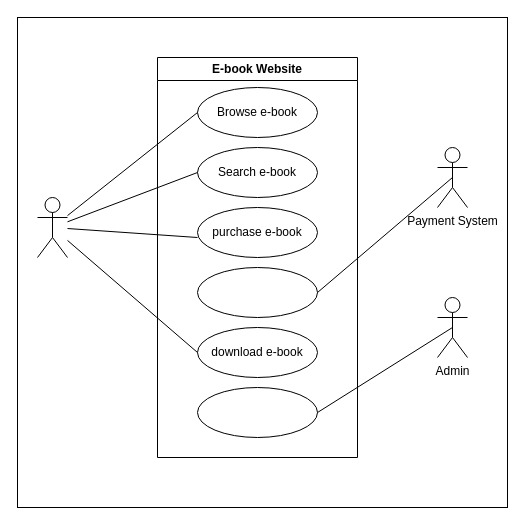
Some shapes in this 525 by 525 pixel diagram are drawn without their labels. Here are the shapes that lost their labels. From the top down, the centre of each, then its label:
At point (52, 227): "Customer".
At point (257, 292): "process payment".
At point (257, 412): "Manage e-book".
